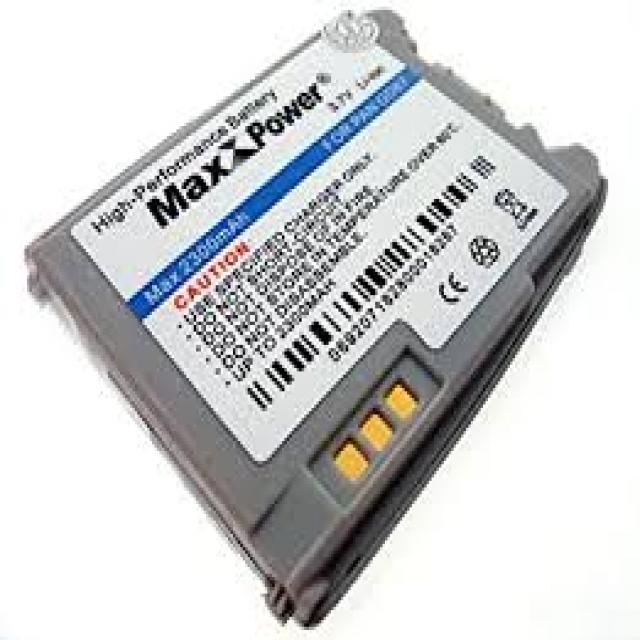non-organic waste: (23, 11, 608, 630)
